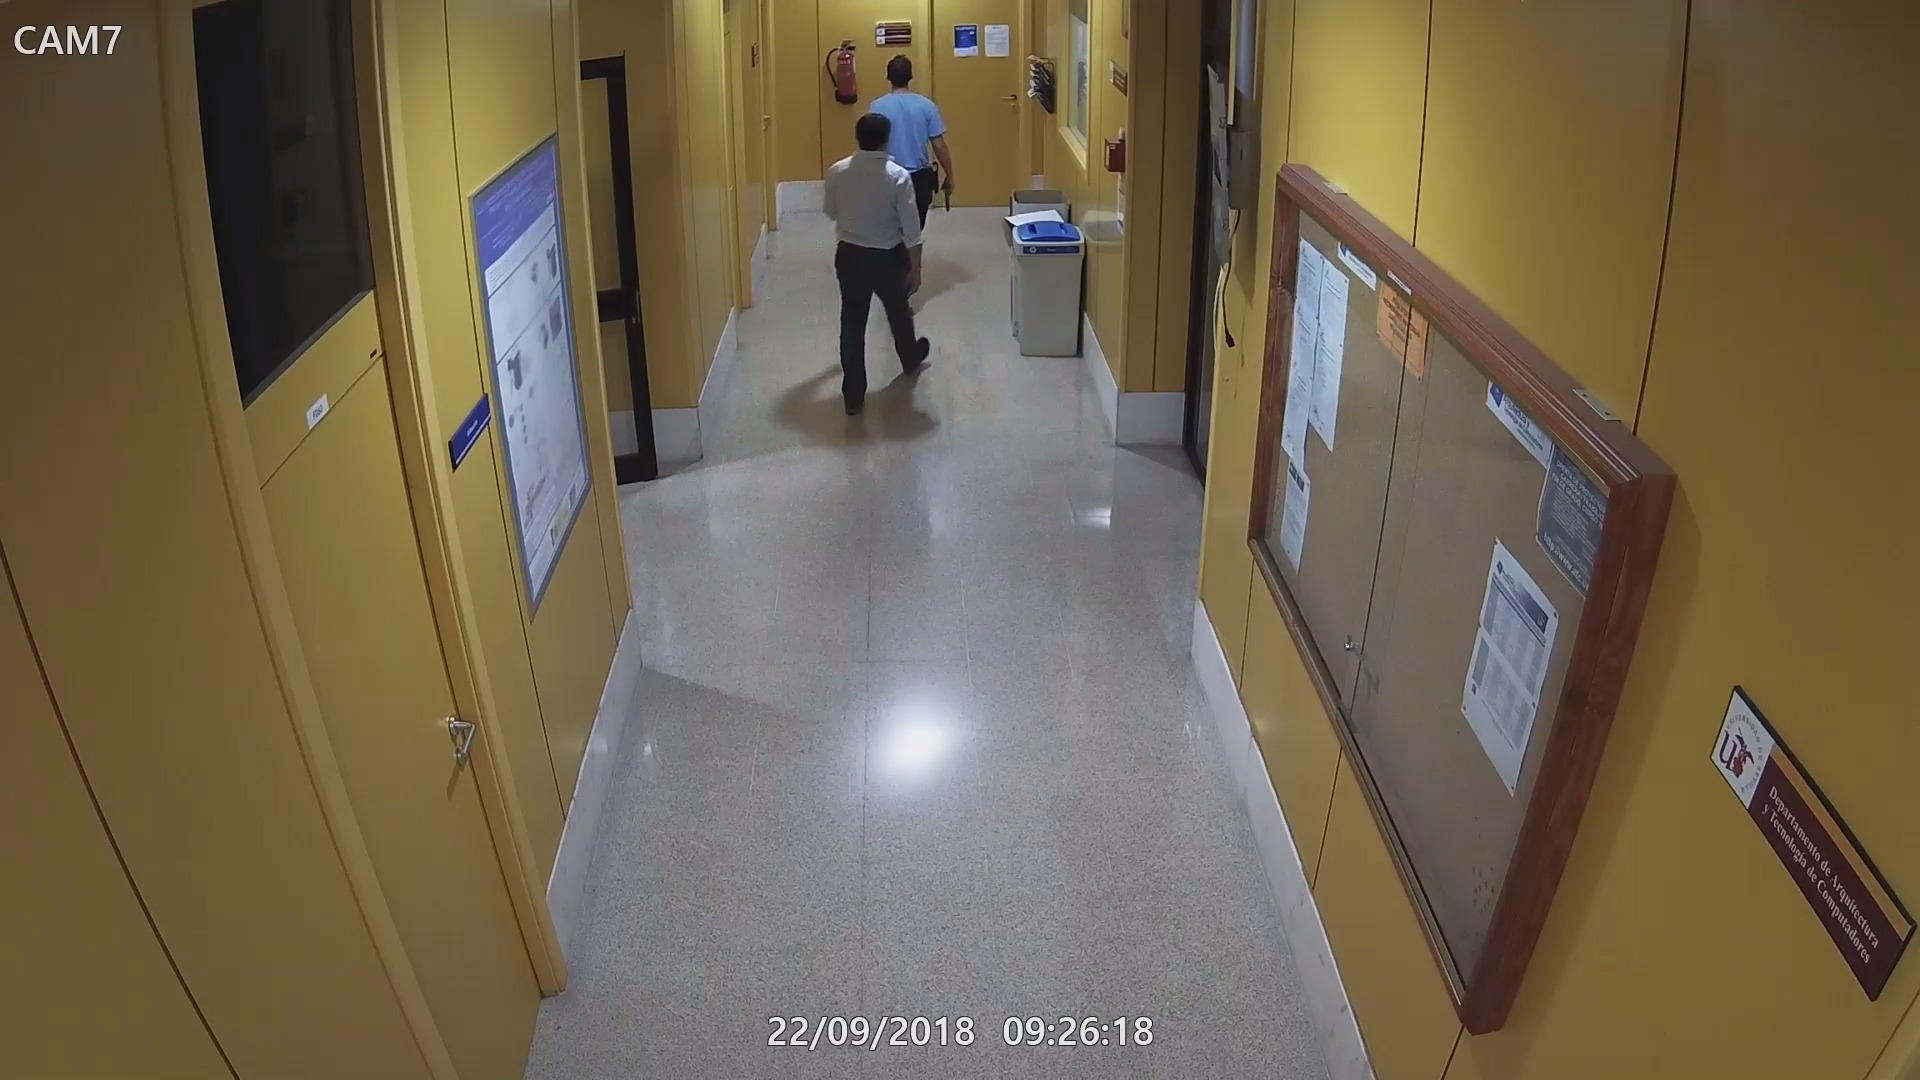Handgun: (934, 173, 960, 211)
